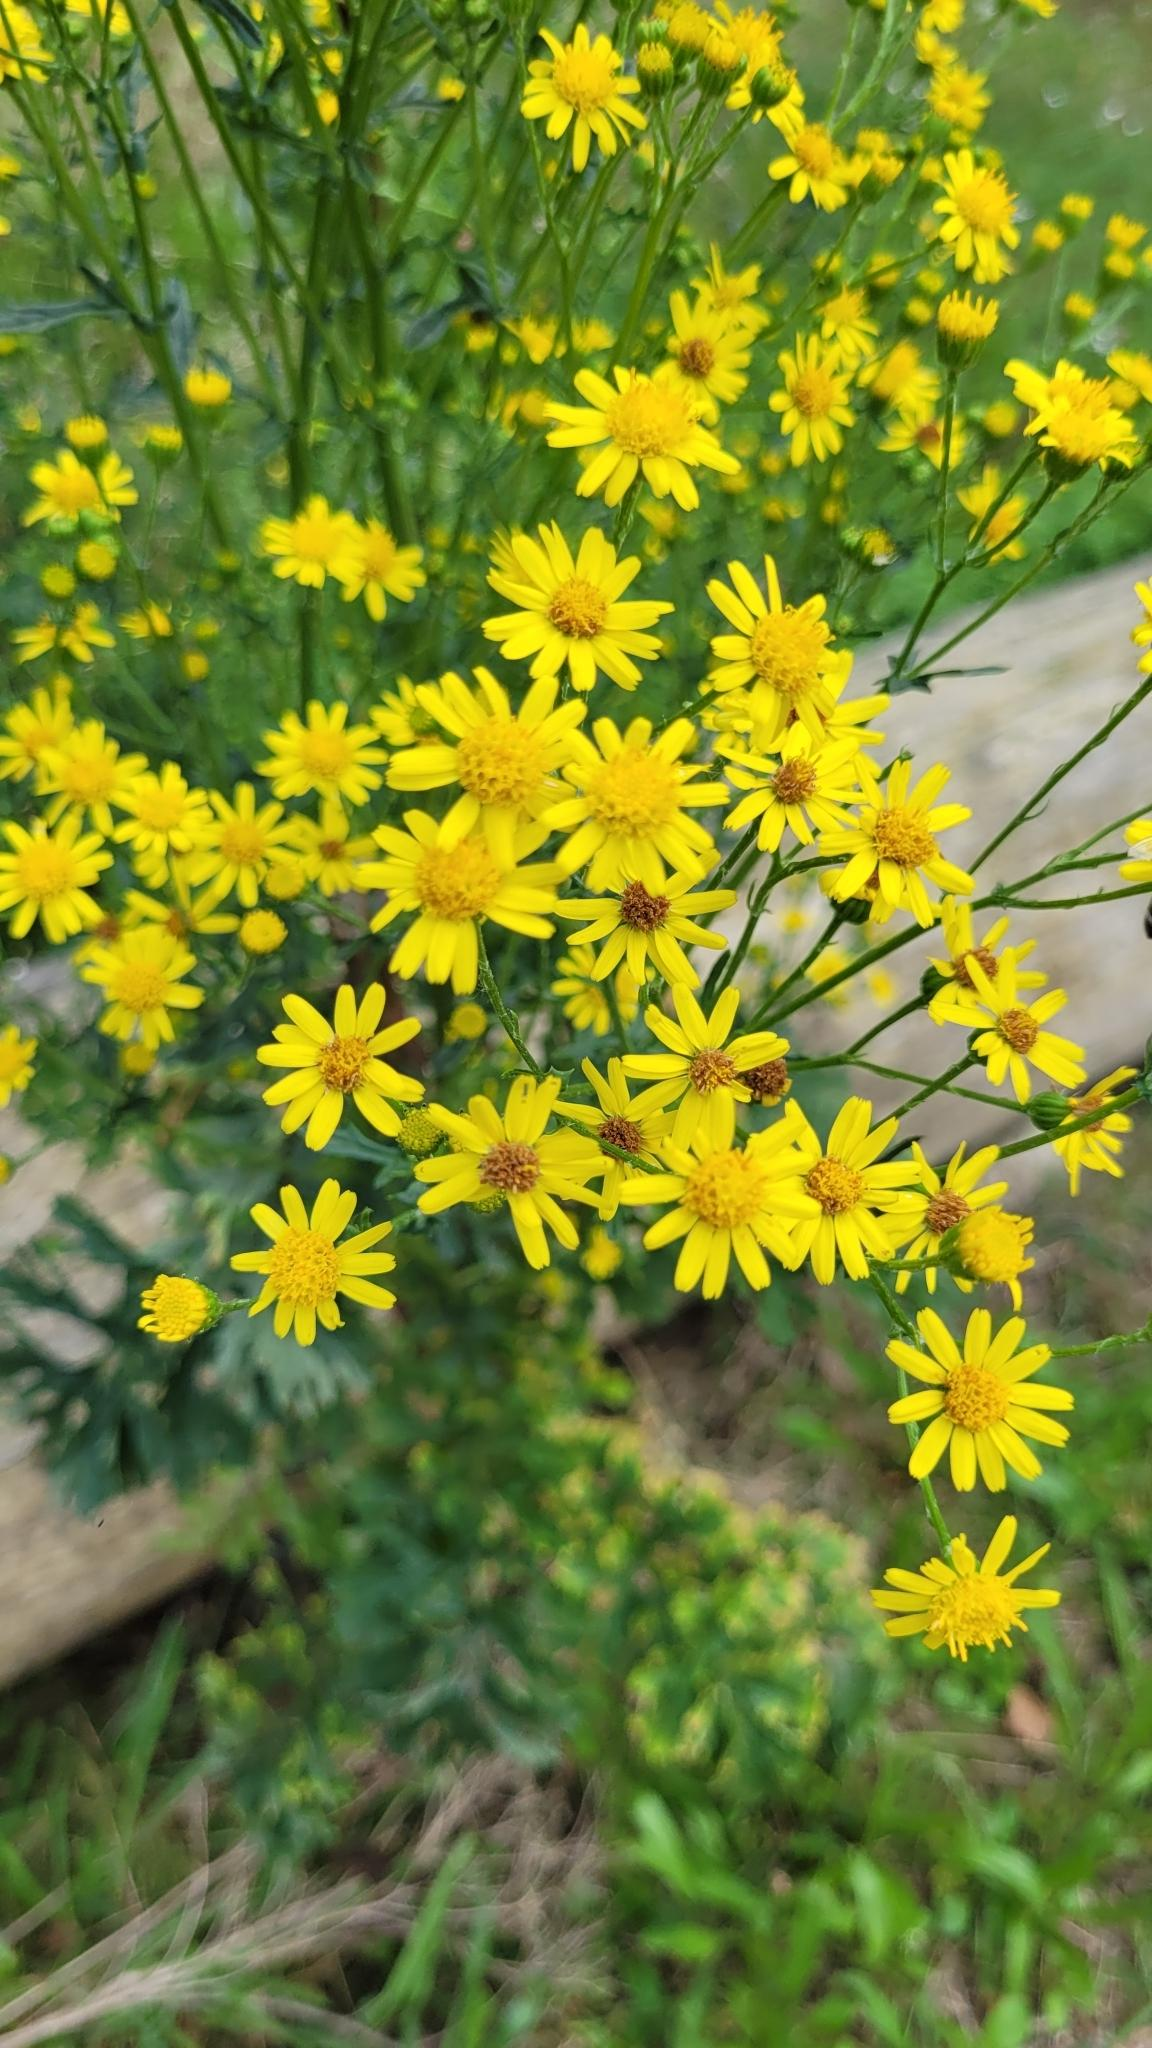Jacobaea vulgaris: (0, 0, 1152, 1670)
